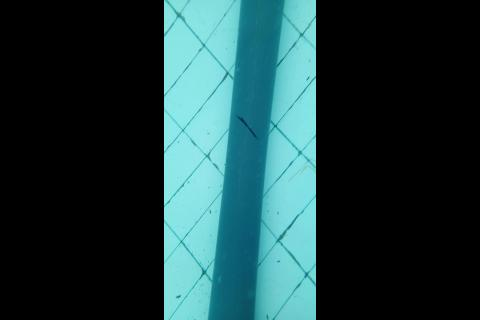keretakan: (233, 112, 260, 141)
